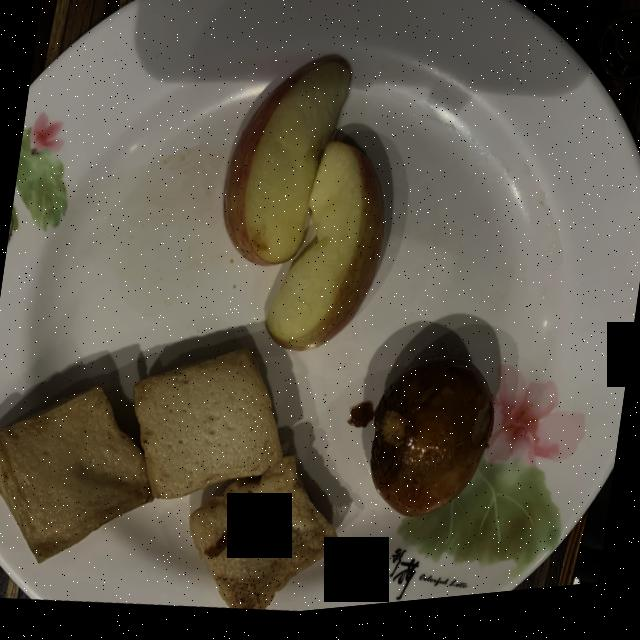apple -sliced-: (224, 66, 384, 356)
coin: (597, 22, 640, 94)
creamy tofu -without sauce-: (0, 353, 339, 615)
soy egg: (370, 364, 494, 525)
